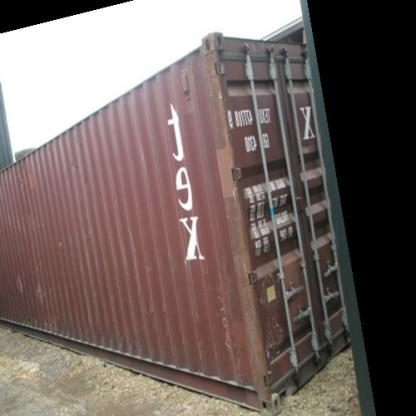Damage: (214, 262, 260, 384), (195, 42, 241, 146), (262, 275, 306, 351), (9, 201, 45, 234), (32, 270, 54, 309), (138, 295, 176, 315), (64, 151, 90, 169)
